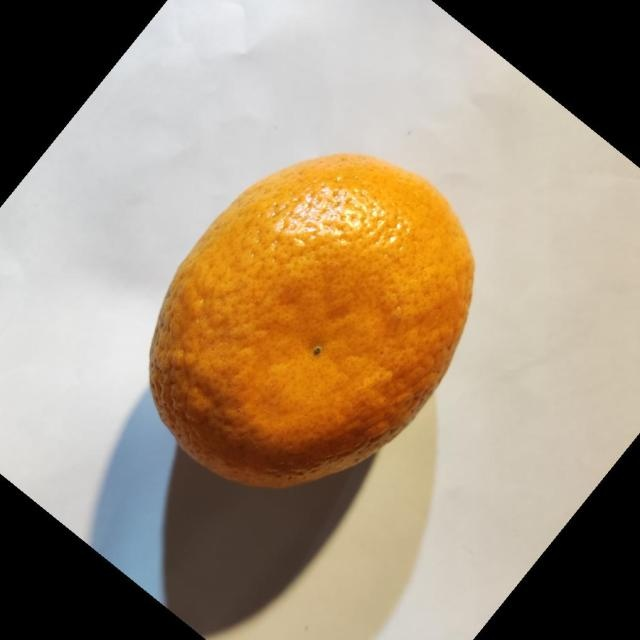agrume: (147, 151, 475, 489)
